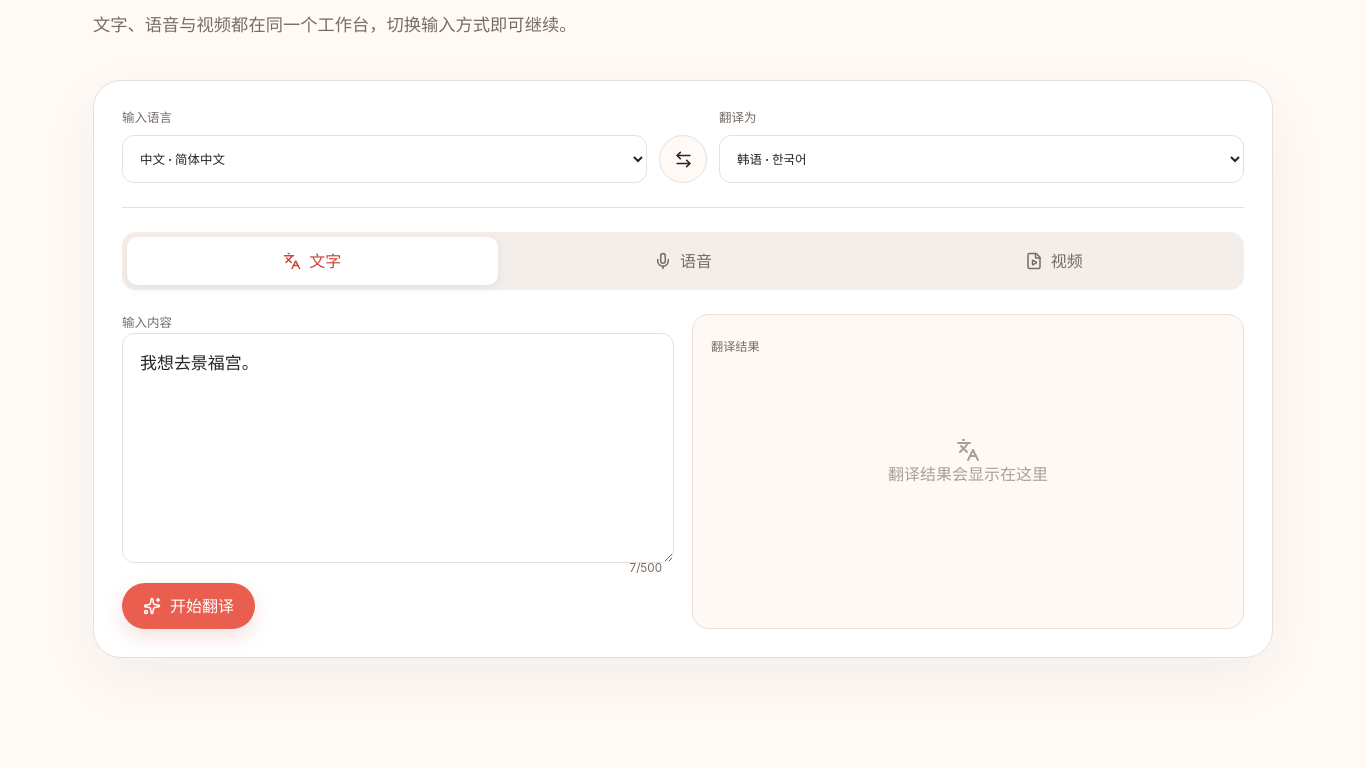
Test: TranslationPage › shows a translated result
(page scrolled)
Step 1. Click the button "开始翻译" → point(188, 606), box [122,583,255,629]
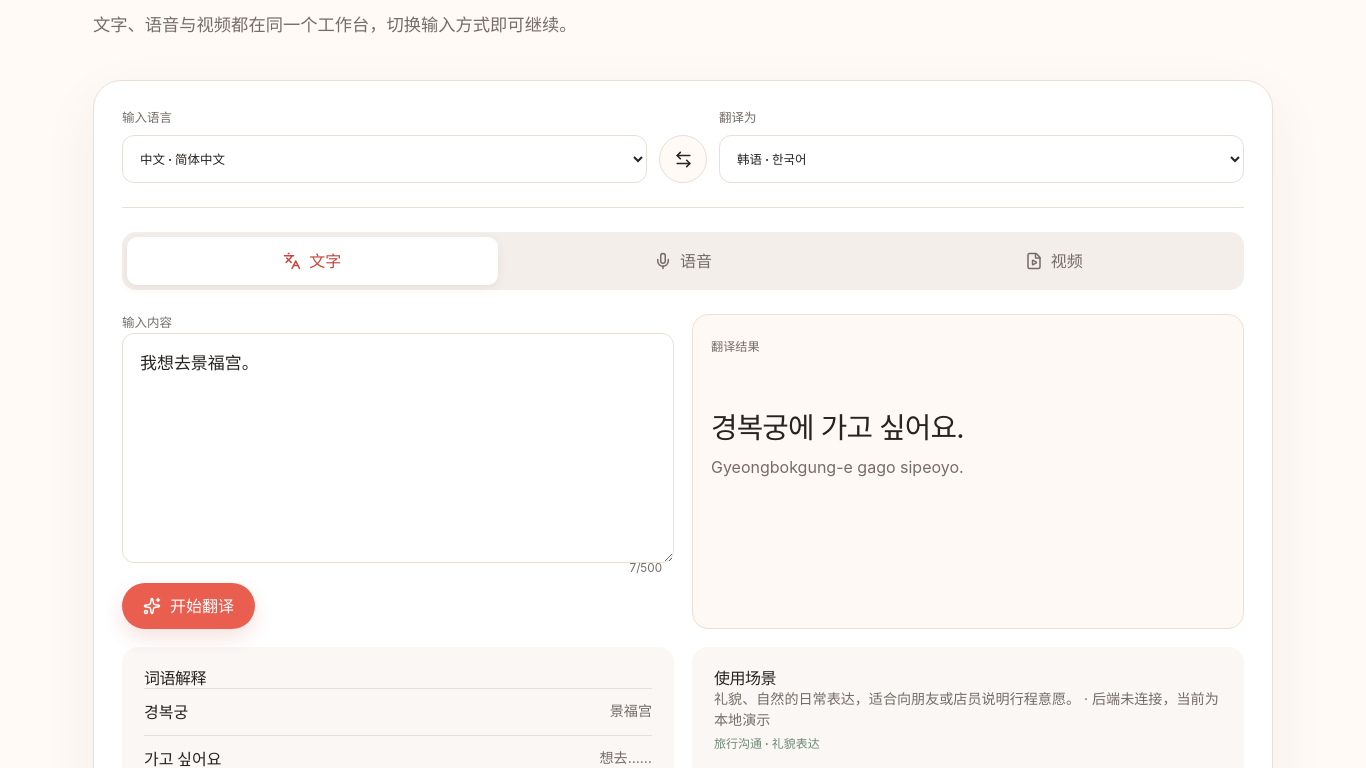
Expected: the heading "경복궁에 가고 싶어요." is shown, [711,410,964,446]
